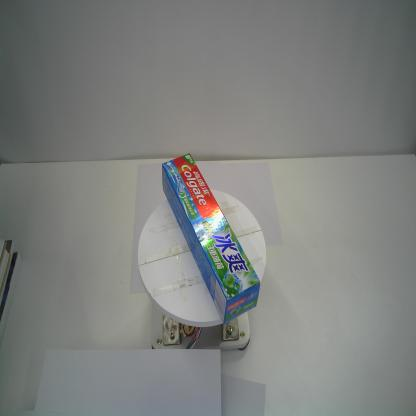Personal Hygiene: (160, 152, 262, 326)
